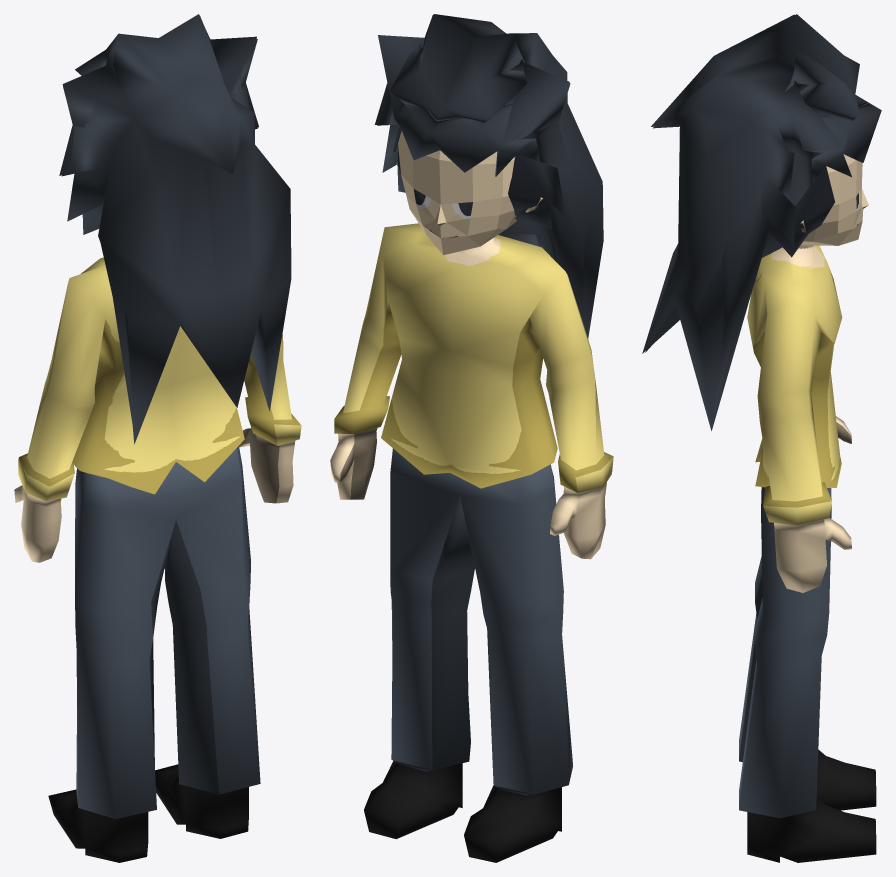
Rendered from M SPIKEY LONG.glb.
3 renders of one model, left to right at view 1: azimuth 30°, elevation 25°; view 2: azimuth 150°, elevation 25°; view 3: azimuth 270°, elevation 25°, orthographic.
Visible parts, largest first — view 1: MEN OFFICE, SPIKEYLONG; view 2: MEN OFFICE, SPIKEYLONG, MAN HEAD; view 3: MEN OFFICE, SPIKEYLONG, MAN HEAD.
Boxes of the visible parts, <box> form: MEN OFFICE: <box>14,257,301,862</box>; SPIKEYLONG: <box>59,14,291,444</box>; MEN OFFICE: <box>330,223,613,862</box>; SPIKEYLONG: <box>375,14,603,338</box>; MAN HEAD: <box>398,130,516,255</box>; MEN OFFICE: <box>739,245,876,862</box>; SPIKEYLONG: <box>642,14,881,430</box>; MAN HEAD: <box>801,154,868,245</box>.
Bounding box in the file's own units: 3.32 × 9.62 × 2.64.
4 materials, 4 textured.
